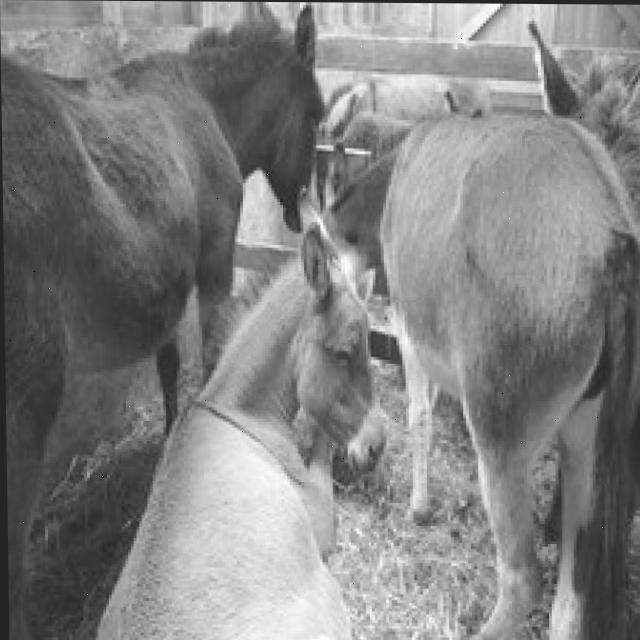Donkey: (0, 0, 332, 639), (372, 17, 640, 640), (77, 215, 389, 640), (313, 71, 499, 524), (526, 16, 640, 640), (313, 71, 494, 204)
